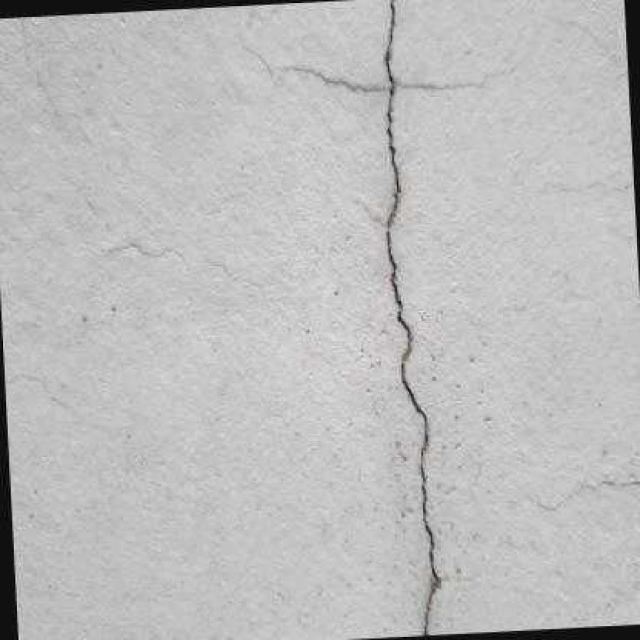D00: (379, 0, 438, 635)
